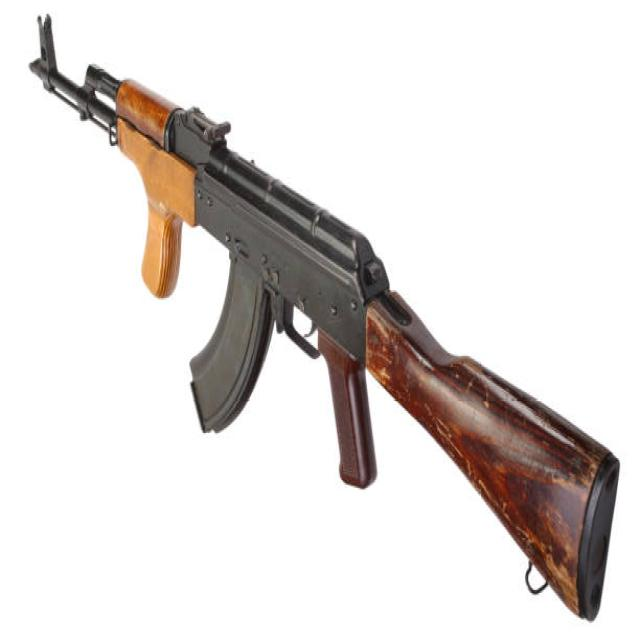rifle: (25, 7, 627, 636)
